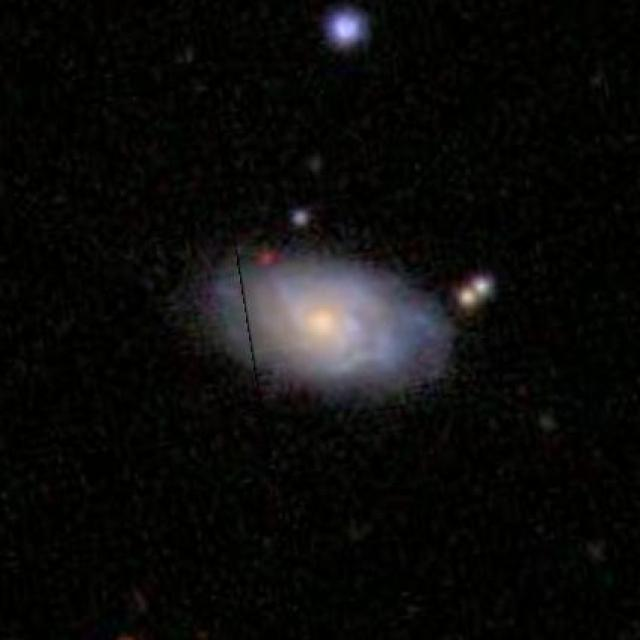galaxy: (187, 241, 467, 400), (318, 6, 376, 59), (466, 272, 505, 307), (450, 280, 482, 317), (285, 202, 317, 234), (254, 243, 285, 275)
